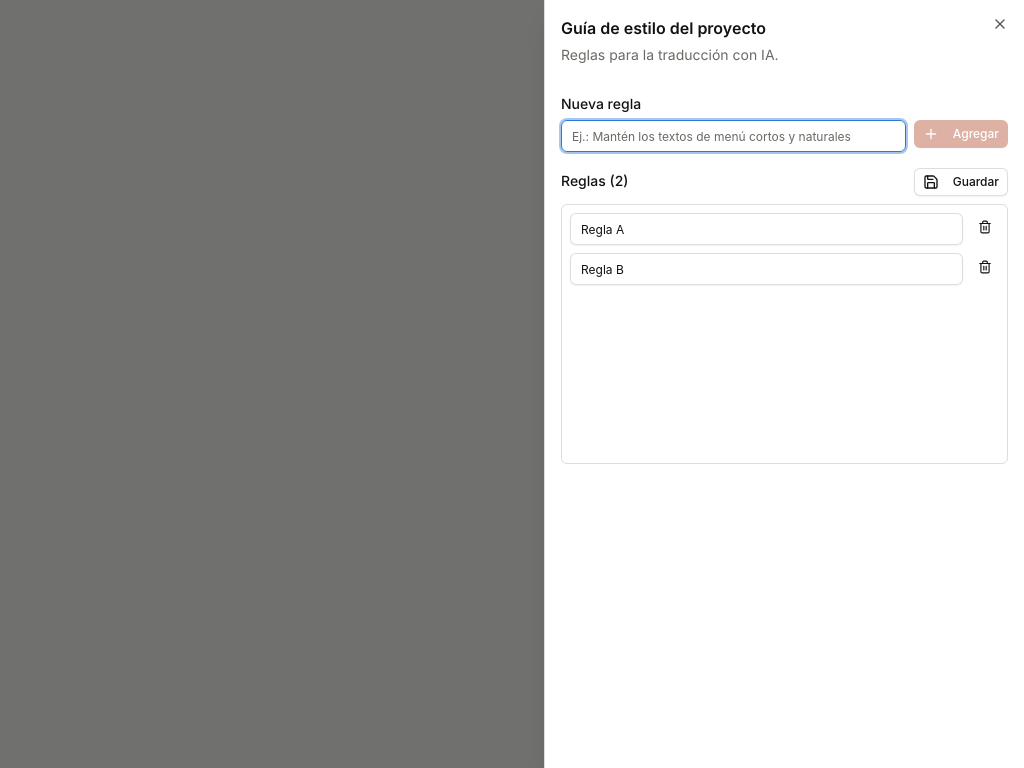
Test: StyleGuidePanel › edits and removes the visible normalized rule
Expected: the text "Reglas (2)" is shown, [561,175,628,189]
Replace the text in the field named "Regla 2" with "Regla C" at point(766, 269), box [570,253,963,285]
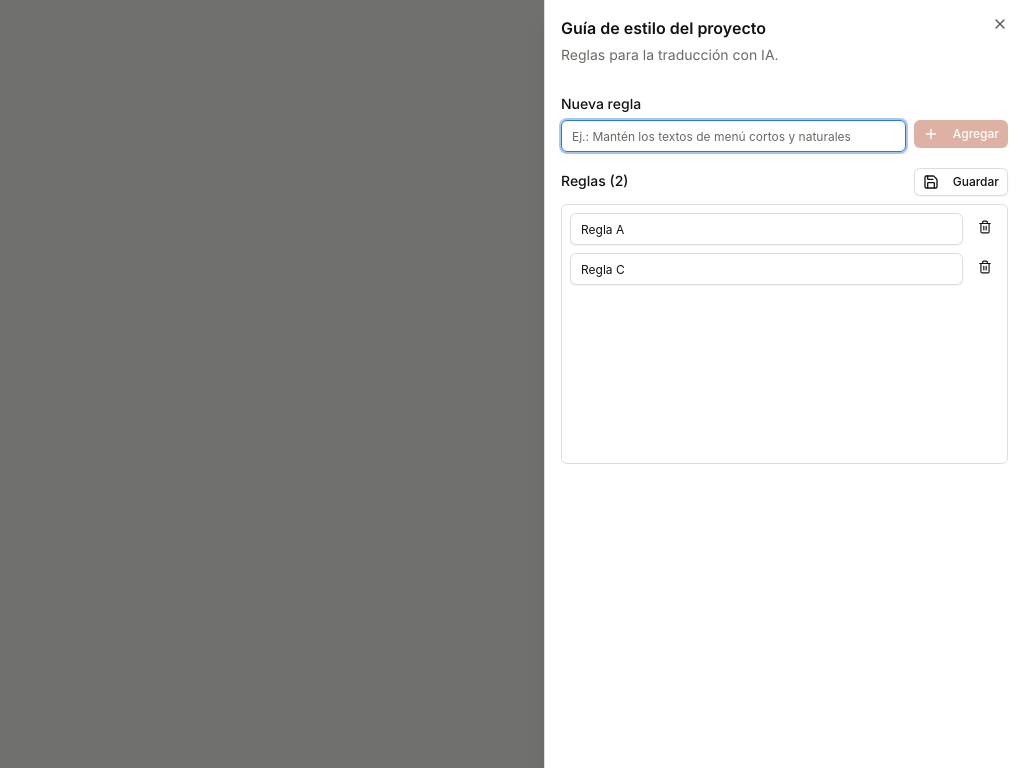
Expected: the field showing "Regla B" is not shown
Click the button named "Eliminar regla de estilo 1" at point(985, 227), box [971,213,999,241]
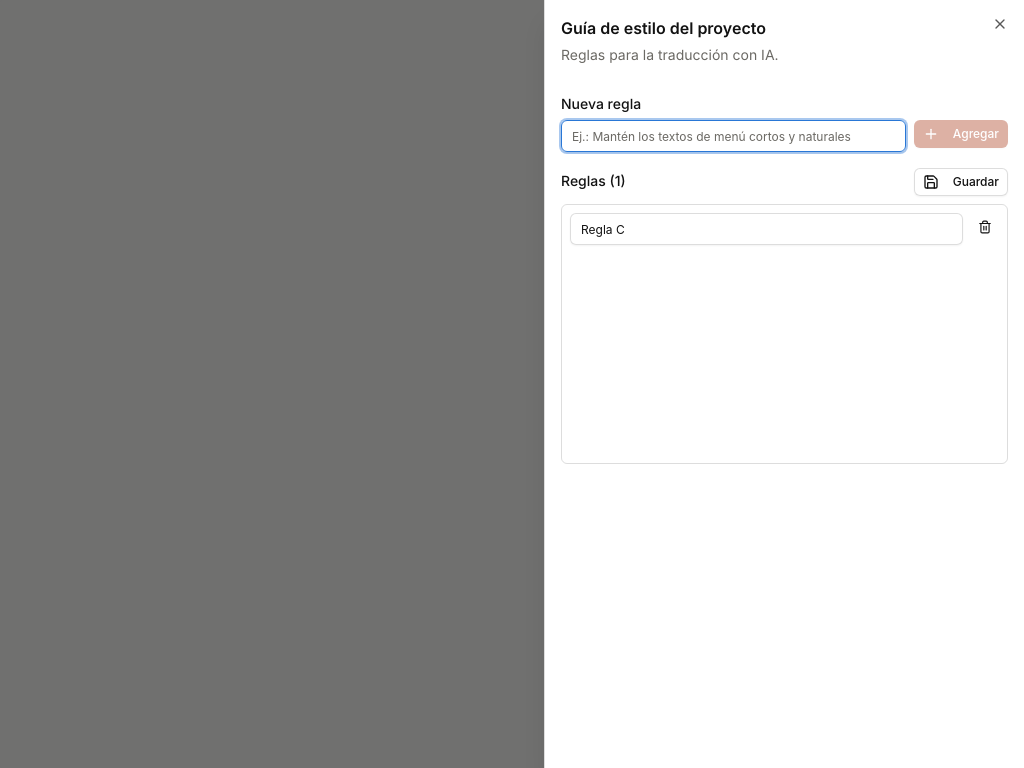
Now the field showing "Regla C" is shown, box [570,213,963,245]
